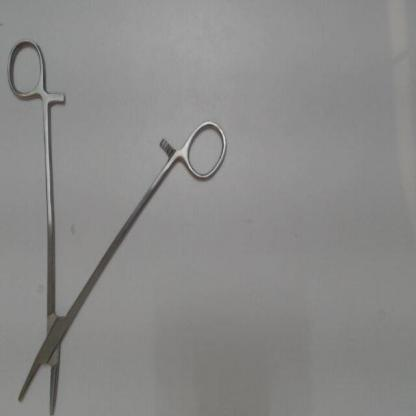8 Mayo Needle Holder: (3, 30, 235, 415)
